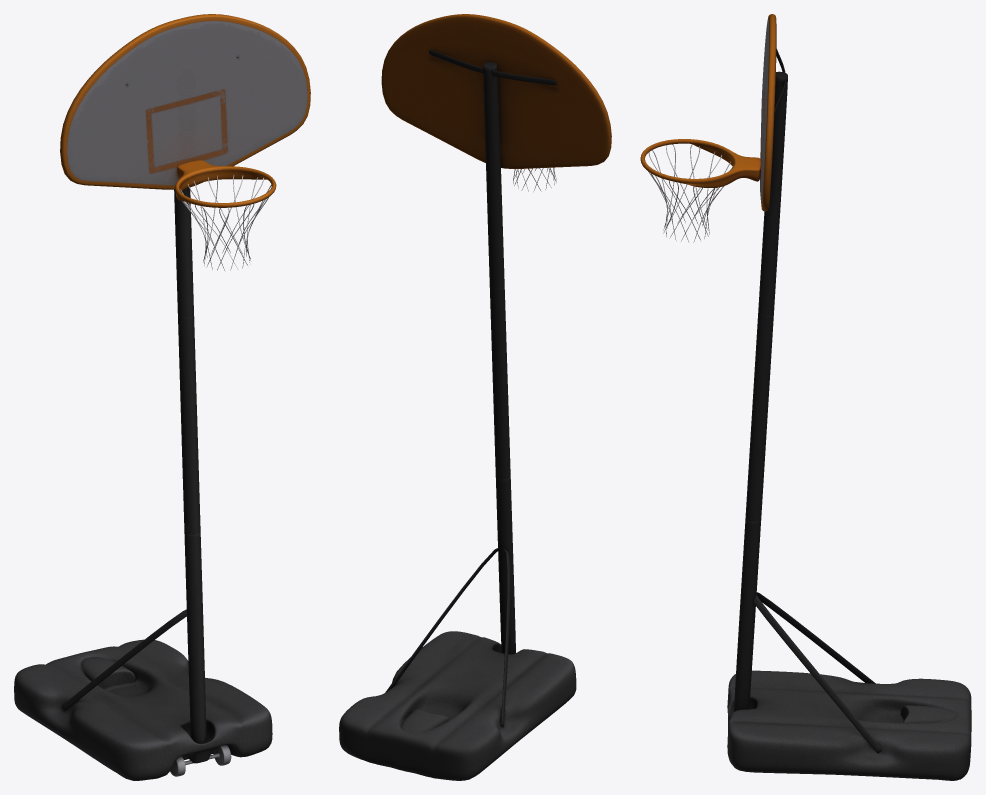
File: ring-basket.gltf
3 renders of one model, left to right at view 1: azimuth 30°, elevation 25°; view 2: azimuth 150°, elevation 25°; view 3: azimuth 270°, elevation 25°, orthographic. The views are drawn at different scales.
Parts seen in each view (by area): view 1: 10488_basketball_goal_L3; view 2: 10488_basketball_goal_L3; view 3: 10488_basketball_goal_L3.
Part boxes in pixels (x1,y1,x2,y2): 10488_basketball_goal_L3: [14, 14, 310, 780]; 10488_basketball_goal_L3: [339, 14, 611, 780]; 10488_basketball_goal_L3: [640, 14, 971, 780].
Size of the model in its own units: 0.6021 by 1.72 by 0.7137.
1 material, 1 textured.
